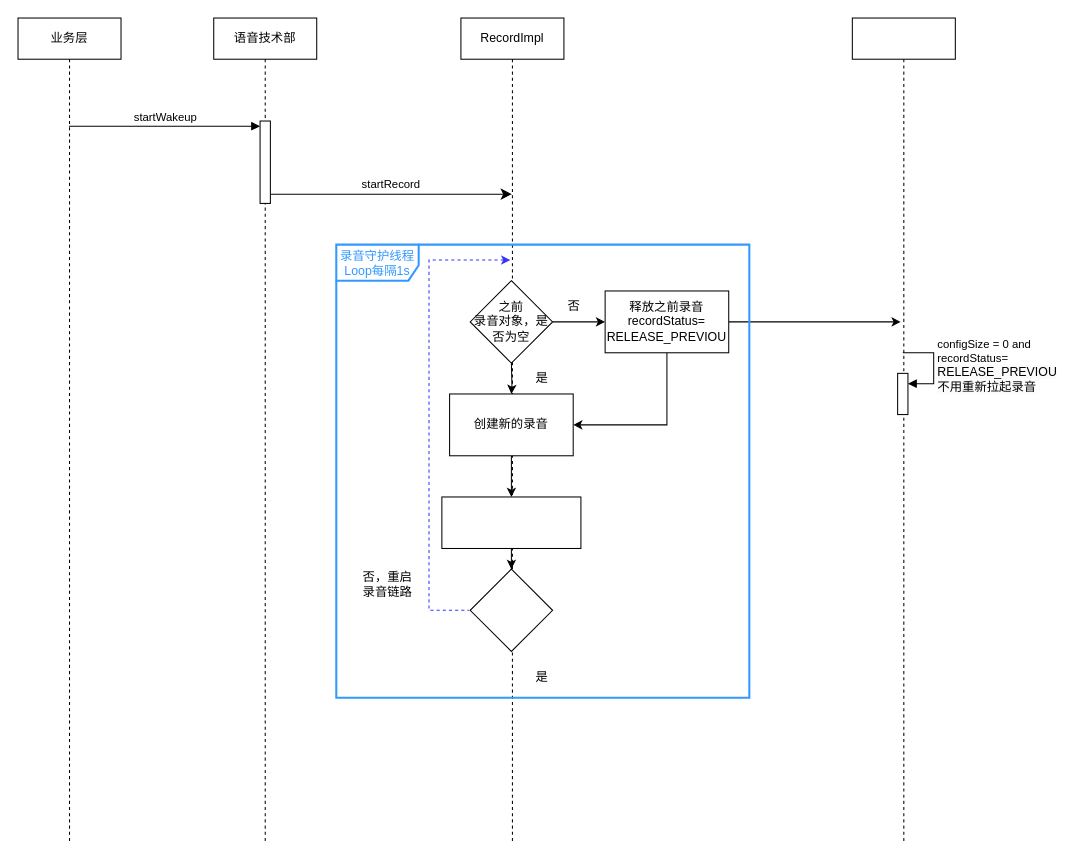
This 1075x860 diagram has some shape labels left out. Here are the shapes that lost their labels. From the top down, the box of each, then its label:
(851, 17, 955, 842): AudioRecording Callback
(441, 496, 581, 548): 授权时获取的录音状态 RecordStatus = INITIALIZED
(469, 568, 553, 651): 录音是否正常
